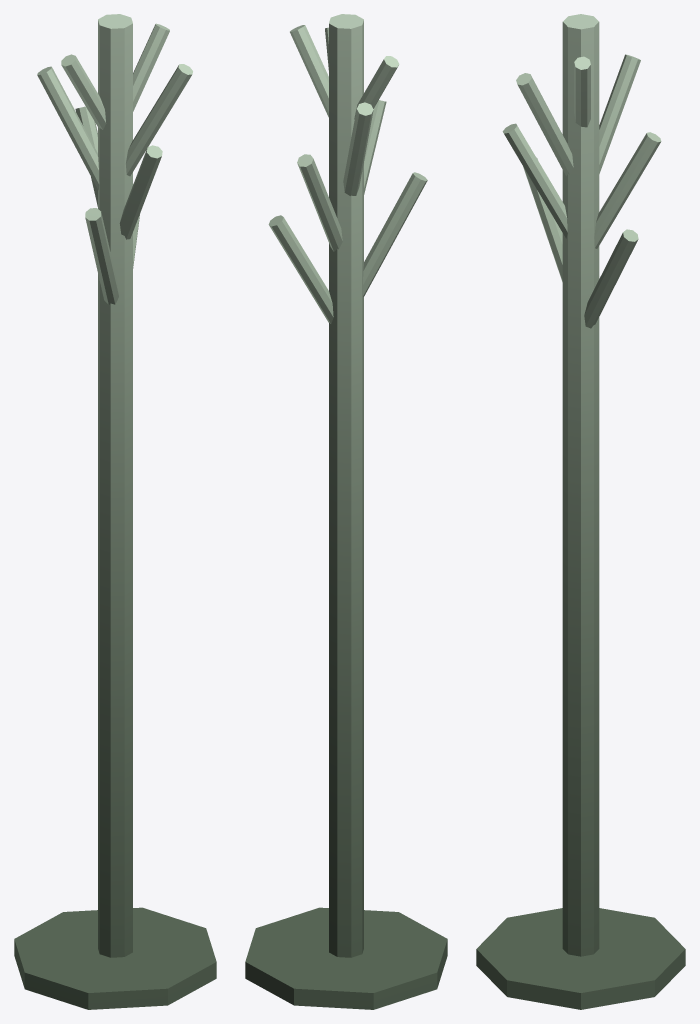
The model's file is hanger.glb.
The picture shows the model from 3 angles, left to right: view 1: azimuth 30°, elevation 25°; view 2: azimuth 150°, elevation 25°; view 3: azimuth 270°, elevation 25°; orthographic projection.
Parts seen in each view (by area): view 1: Hanger.001; view 2: Hanger.001; view 3: Hanger.001.
Part boxes in pixels (x1=…): Hanger.001: x1=14, y1=14, x2=216, y2=1009; Hanger.001: x1=245, y1=14, x2=447, y2=1009; Hanger.001: x1=476, y1=14, x2=685, y2=1009.
Size of the model in its own units: 0.3679 by 1.83 by 0.3679.
1 material, 1 textured.
